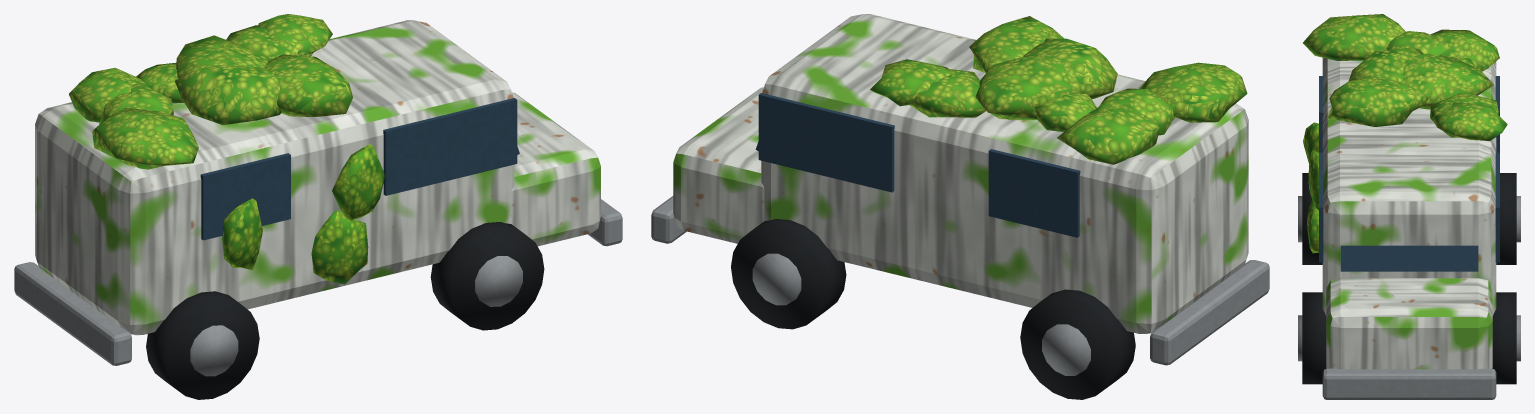
File: van-wrecked.glb
The picture shows the model from 3 angles, left to right: view 1: azimuth 30°, elevation 25°; view 2: azimuth 150°, elevation 25°; view 3: azimuth 270°, elevation 25°; orthographic projection. The views are drawn at different scales.
Visible parts, largest first — view 1: van-wrecked; view 2: van-wrecked; view 3: van-wrecked.
Boxes of the visible parts, box(x1,y1,x2,y2) form: van-wrecked: box(14, 14, 622, 399); van-wrecked: box(651, 14, 1269, 399); van-wrecked: box(1298, 14, 1520, 399).
Bounding box in the file's own units: 3.5 × 1.8 × 1.54.
Materials: 6 (6 with a texture image).
